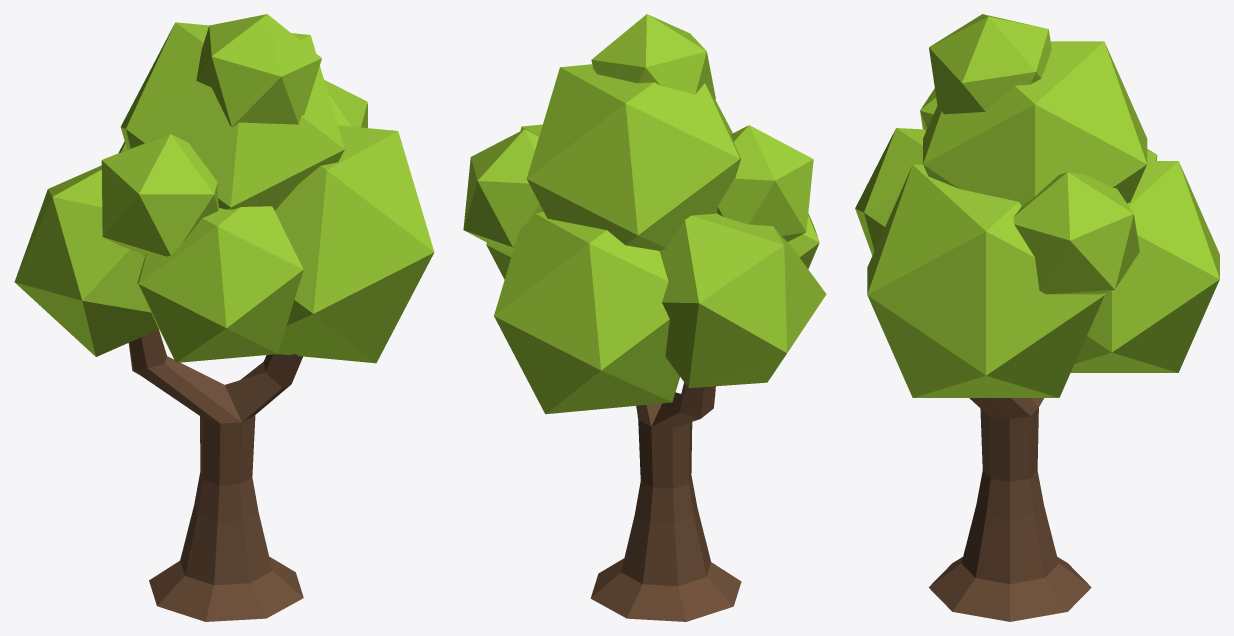
File: tree2.glb
3 views of the same model, side by side, from view 1: azimuth 30°, elevation 25°; view 2: azimuth 150°, elevation 25°; view 3: azimuth 270°, elevation 25° (orthographic). The views are drawn at different scales.
Visible parts, largest first — view 1: Icosphere.003; view 2: Icosphere.003; view 3: Icosphere.003.
Boxes of the visible parts, x1,y1,x2,y2 form: Icosphere.003: (14,14,434,621); Icosphere.003: (463,14,826,621); Icosphere.003: (855,14,1219,621).
Bounding box in the file's own units: 9.99 × 15.32 × 8.65.
